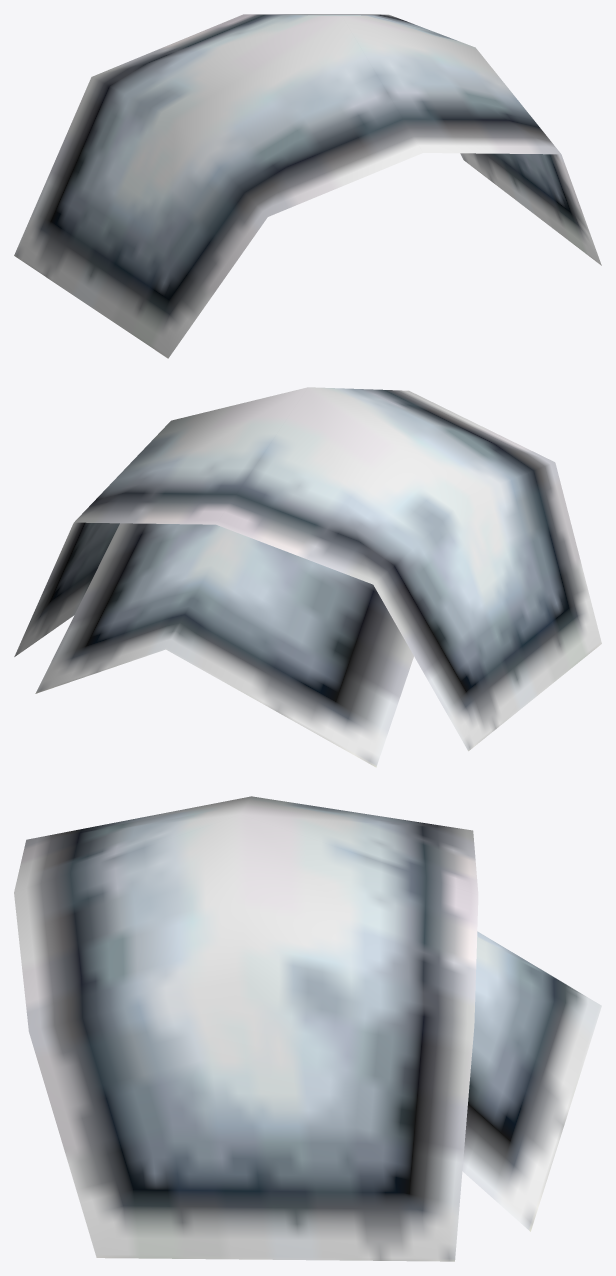
Rendered from armorshoulderblue.obj.
3 renders of one model, top to bottom at view 1: azimuth 30°, elevation 25°; view 2: azimuth 150°, elevation 25°; view 3: azimuth 270°, elevation 25°, orthographic. The views are drawn at different scales.
Parts seen in each view (by area): view 1: armorshoulderblue; view 2: armorshoulderblue; view 3: armorshoulderblue.
Part boxes in pixels (x1,y1,x2,y2): armorshoulderblue: [14, 14, 601, 358]; armorshoulderblue: [14, 387, 601, 767]; armorshoulderblue: [14, 796, 601, 1261].
Bounding box in the file's own units: 0.5277 × 0.2888 × 0.4769.
Materials: 1 (1 with a texture image).
